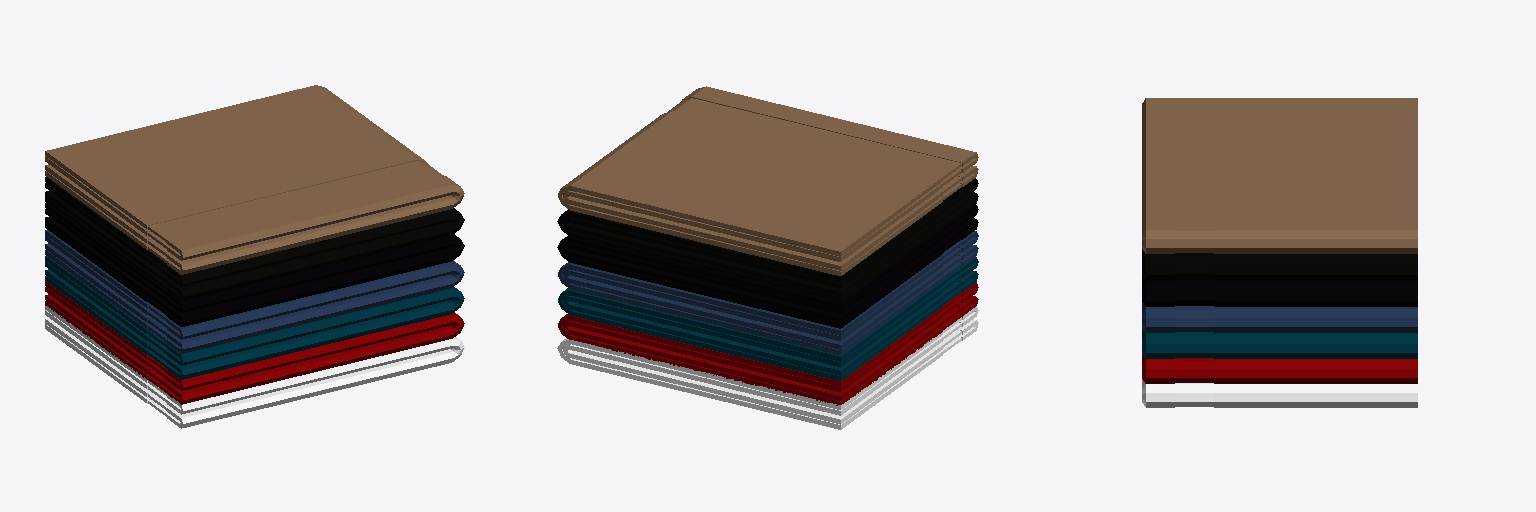
File: towels.obj
The picture shows the model from 3 angles: view 1: azimuth 30°, elevation 25°; view 2: azimuth 150°, elevation 25°; view 3: azimuth 270°, elevation 25°; orthographic projection.
Bounding box in the file's own units: 1 × 0.6024 × 0.8444.